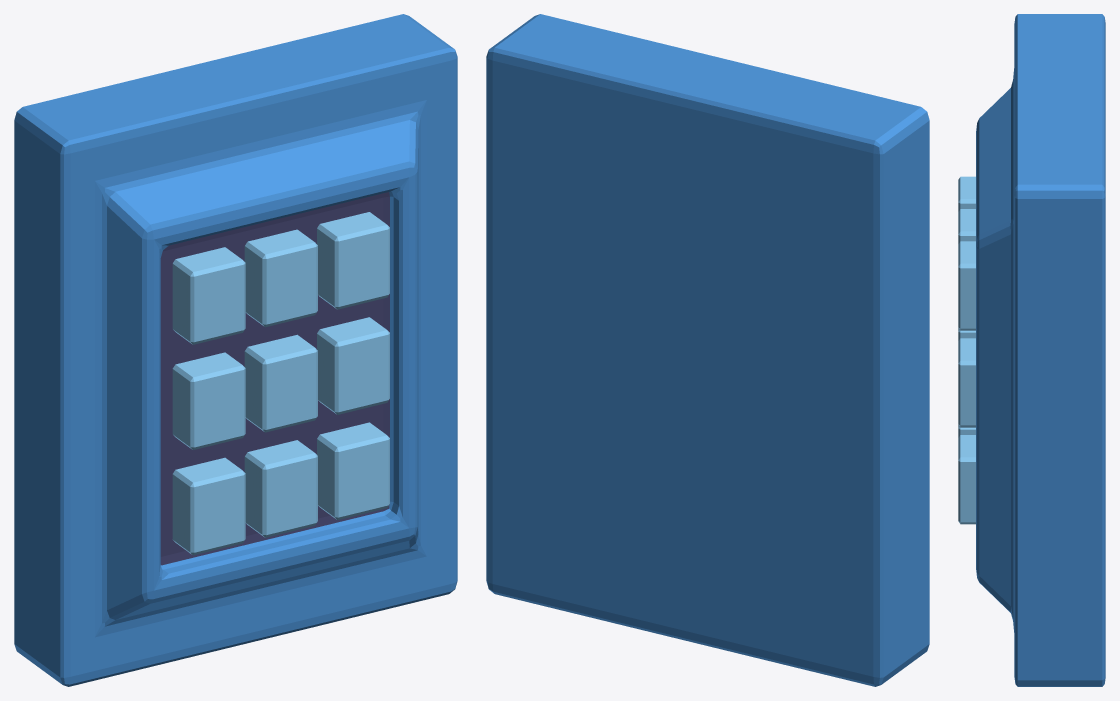
File: G477Proj2Keypad.fbx
The picture shows the model from 3 angles, left to right: view 1: azimuth 30°, elevation 25°; view 2: azimuth 150°, elevation 25°; view 3: azimuth 270°, elevation 25°; orthographic projection. The views are drawn at different scales.
Visible parts, largest first — view 1: KeypadBase, Key4, Key7, Key1, Key8, Key2, Key5, Key3, Key6, Key9; view 2: KeypadBase; view 3: KeypadBase, Key3, Key6, Key9, Key1, Key2.
Part boxes in pixels (box(x1,y1,x2,y2)): KeypadBase: box(14, 14, 457, 686); Key4: box(172, 352, 245, 449); Key7: box(172, 457, 245, 555); Key1: box(172, 247, 245, 344); Key8: box(244, 440, 317, 537); Key2: box(244, 229, 317, 327); Key5: box(244, 334, 317, 432); Key3: box(317, 212, 389, 309); Key6: box(317, 317, 389, 414); Key9: box(317, 422, 389, 520); KeypadBase: box(486, 14, 929, 686); KeypadBase: box(976, 14, 1105, 686); Key3: box(958, 241, 975, 330); Key6: box(958, 338, 975, 427); Key9: box(958, 435, 975, 524); Key1: box(958, 176, 975, 211); Key2: box(958, 209, 975, 243).
Size of the model in its own units: 26.42 by 34.71 by 9.25.
